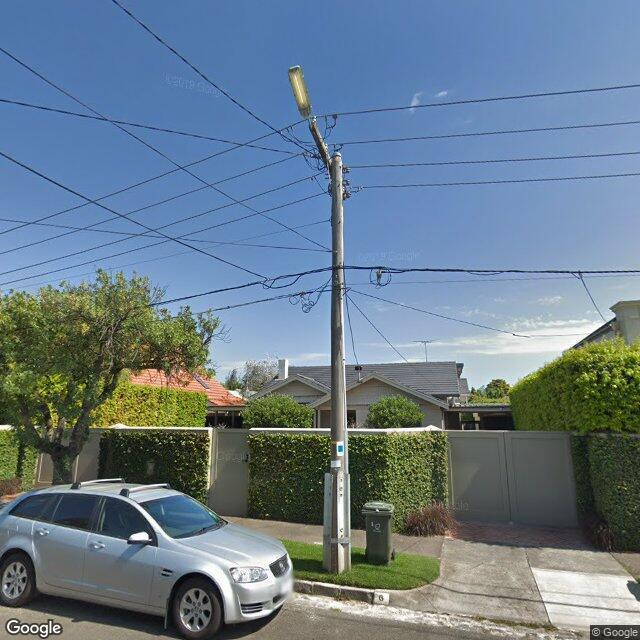crossarm: (311, 123, 351, 201)
streetlight: (288, 66, 314, 125)
timber-pole: (329, 154, 350, 574)
